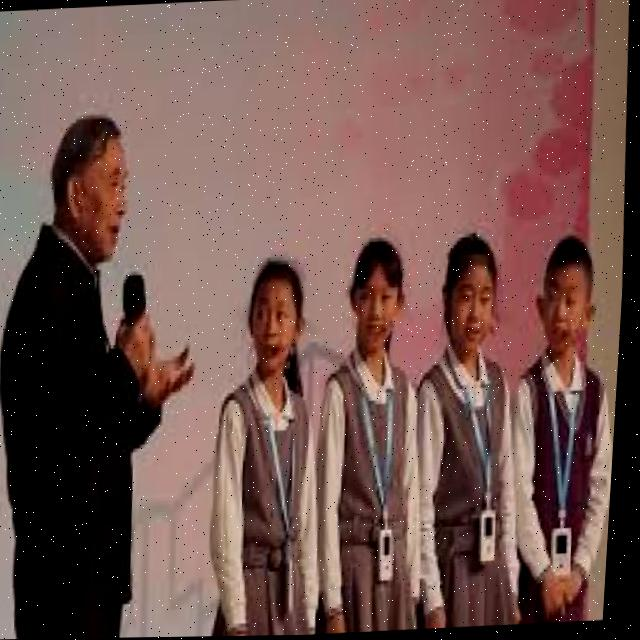id_card: (251, 374, 328, 618), (348, 352, 418, 597), (449, 349, 521, 577), (533, 352, 598, 583)
